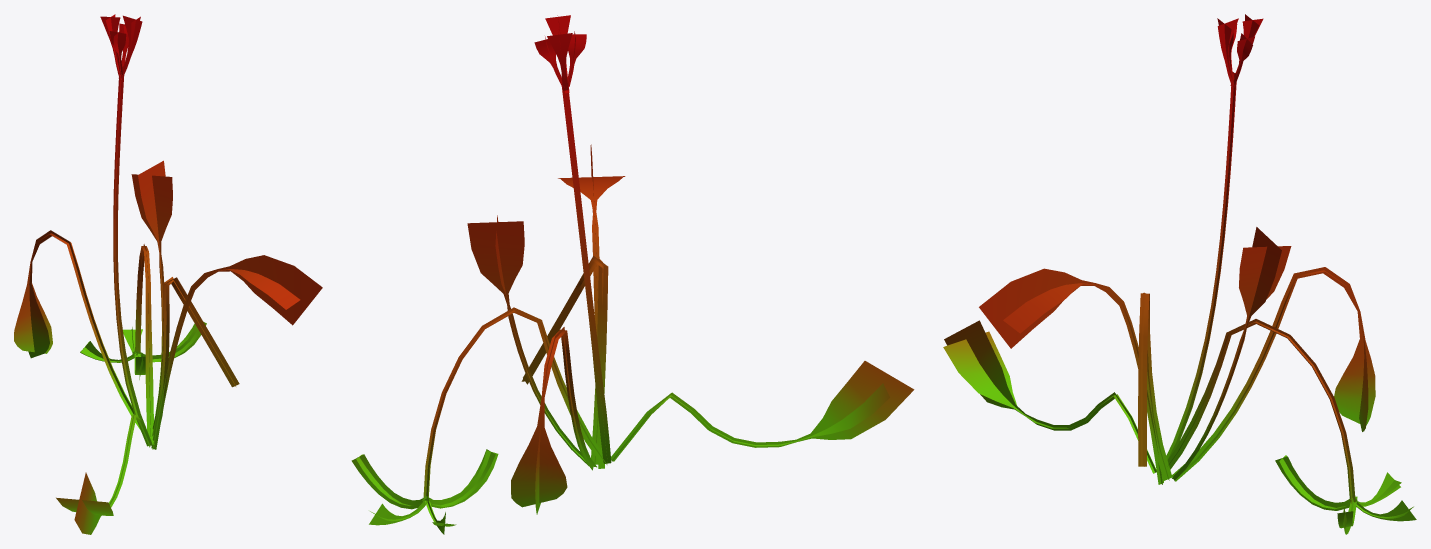
The model's file is Carnation Weed_LOD1_Var6_smdpecor.fbx.
The picture shows the model from 3 angles, left to right: view 1: azimuth 30°, elevation 25°; view 2: azimuth 150°, elevation 25°; view 3: azimuth 270°, elevation 25°; orthographic projection. The views are drawn at different scales.
Visible parts, largest first — view 1: _b6f4_Var6_LOD1; view 2: _b6f4_Var6_LOD1; view 3: _b6f4_Var6_LOD1.
Boxes of the visible parts, left/top/right/bottom form: _b6f4_Var6_LOD1: left=14, top=14, right=322, bottom=534; _b6f4_Var6_LOD1: left=351, top=15, right=914, bottom=534; _b6f4_Var6_LOD1: left=943, top=14, right=1416, bottom=534.
Size of the model in its own units: 18.16 by 22.97 by 21.09.
